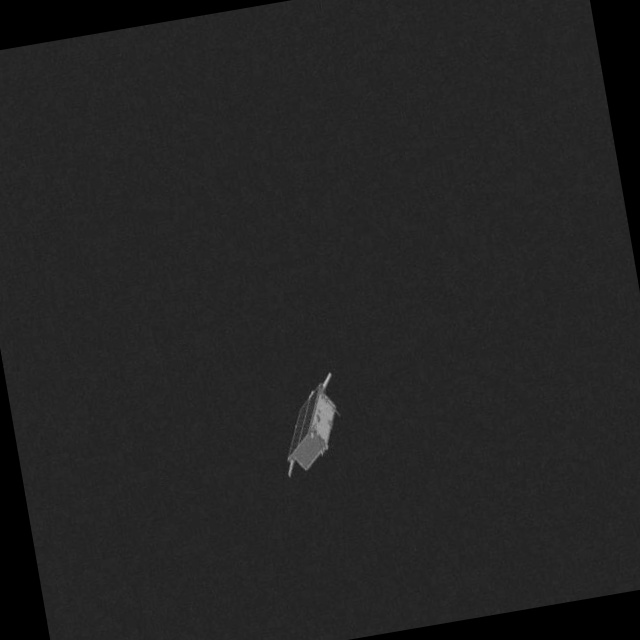satellite: (259, 368, 355, 488)
